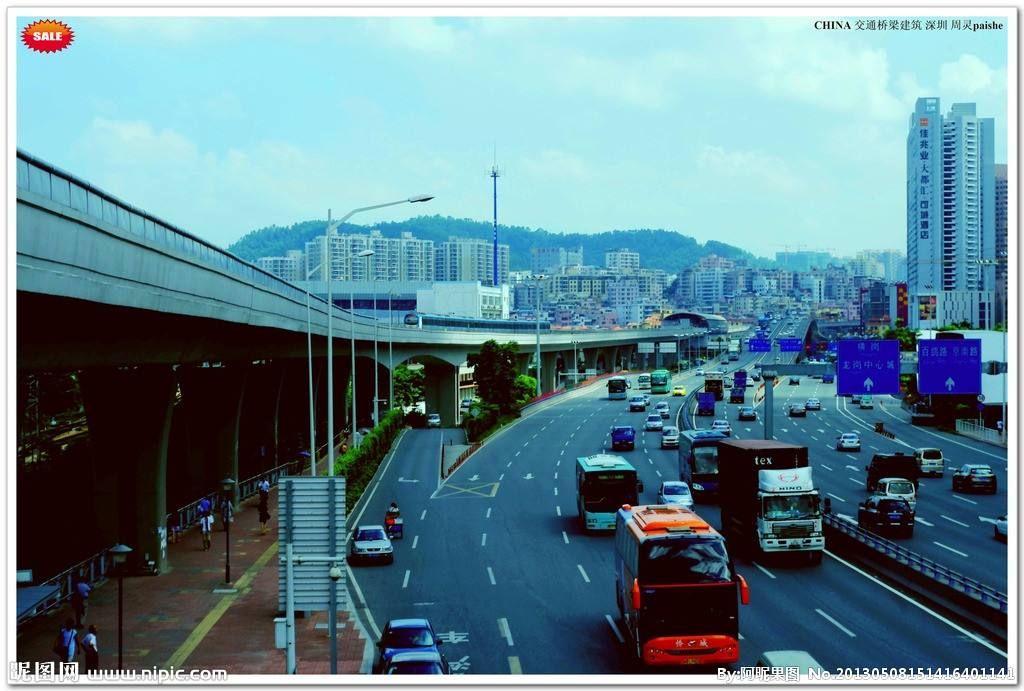bus: (616, 502, 751, 669), (574, 454, 644, 536), (677, 427, 736, 506), (605, 375, 631, 402)
car: (377, 618, 444, 674), (346, 526, 396, 563), (951, 463, 997, 495)
suv: (859, 493, 915, 537)
truck: (716, 435, 826, 561), (864, 452, 922, 509)
